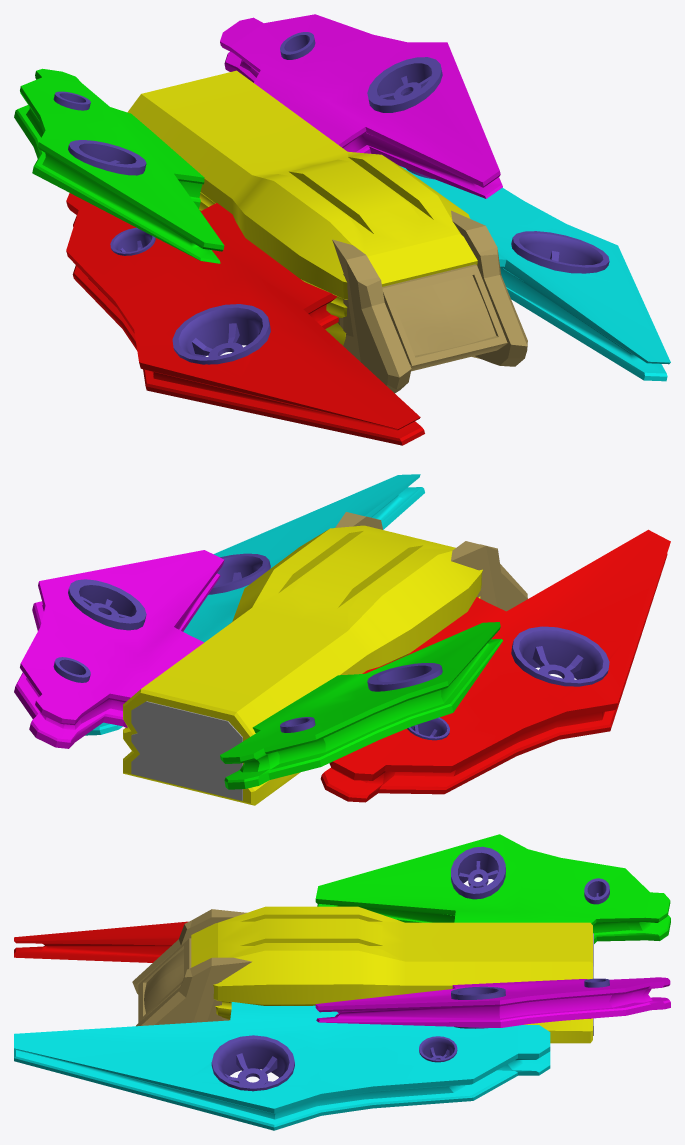
File: THESPACESHIPFINAL.fbx
The picture shows the model from 3 angles, top to bottom: view 1: azimuth 30°, elevation 25°; view 2: azimuth 150°, elevation 25°; view 3: azimuth 270°, elevation 25°; orthographic projection. The views are drawn at different scales.
Parts seen in each view (by area): view 1: WING_LEFT1 (×4), CAPSULE, MOTOR_LEFT1 (×4), SUPPORT, VITRE, CADRE, MOTOR_SMOL_LEFT1 (×2), ELICE_LEFT_TOP1; view 2: WING_LEFT1 (×4), CAPSULE, MOTOR_LEFT1 (×4), PORTE, SUPPORT, MOTOR_SMOL_LEFT1 (×2), ELICE_LEFT_TOP1; view 3: WING_LEFT1 (×4), CAPSULE, MOTOR_LEFT1 (×3), SUPPORT, MOTOR_SMOL_LEFT1 (×2), ELICE_LEFT_TOP1 (×2), VITRE, CADRE.
Part boxes in pixels (bbox=[...]): WING_LEFT1 (×4): bbox=[14, 14, 670, 445]; CAPSULE: bbox=[127, 70, 477, 345]; MOTOR_LEFT1 (×4): bbox=[68, 57, 609, 364]; SUPPORT: bbox=[332, 210, 527, 393]; VITRE: bbox=[391, 275, 496, 355]; CADRE: bbox=[382, 264, 507, 365]; MOTOR_SMOL_LEFT1 (×2): bbox=[110, 32, 315, 255]; ELICE_LEFT_TOP1: bbox=[192, 323, 256, 356]; WING_LEFT1 (×4): bbox=[14, 474, 670, 802]; CAPSULE: bbox=[123, 525, 482, 805]; MOTOR_LEFT1 (×4): bbox=[68, 553, 609, 691]; PORTE: bbox=[131, 701, 242, 800]; SUPPORT: bbox=[335, 512, 527, 611]; MOTOR_SMOL_LEFT1 (×2): bbox=[53, 657, 449, 740]; ELICE_LEFT_TOP1: bbox=[532, 646, 583, 679]; WING_LEFT1 (×4): bbox=[14, 834, 670, 1130]; CAPSULE: bbox=[191, 906, 592, 1043]; MOTOR_LEFT1 (×3): bbox=[211, 846, 505, 1091]; SUPPORT: bbox=[132, 909, 251, 1026]; MOTOR_SMOL_LEFT1 (×2): bbox=[419, 878, 609, 1062]; ELICE_LEFT_TOP1 (×2): bbox=[225, 861, 498, 1085]; VITRE: bbox=[144, 949, 183, 1013]; CADRE: bbox=[138, 938, 191, 1022].
Size of the model in its own units: 16.08 by 4.78 by 22.9.
